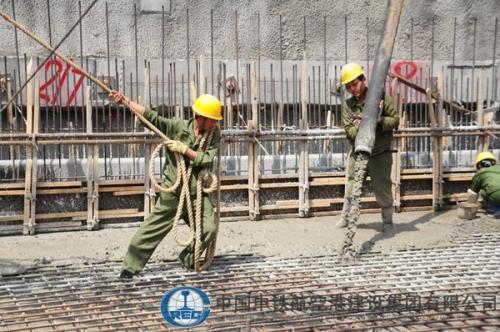boots: (119, 269, 142, 278), (382, 221, 394, 236), (335, 218, 348, 228)
gloves: (111, 89, 151, 110), (162, 139, 188, 155), (354, 152, 370, 171), (352, 114, 362, 129)
hard-hat: (192, 93, 222, 120), (338, 62, 365, 85), (475, 151, 497, 169)
person: (109, 89, 224, 279), (334, 61, 399, 244), (466, 151, 500, 218)
ppe-suit: (119, 103, 222, 275), (336, 87, 401, 231)
